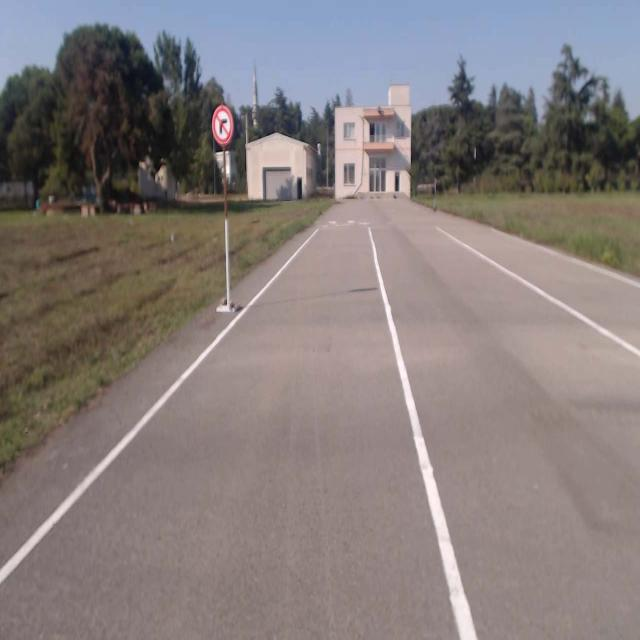sagadonulmez: (212, 105, 232, 143)
